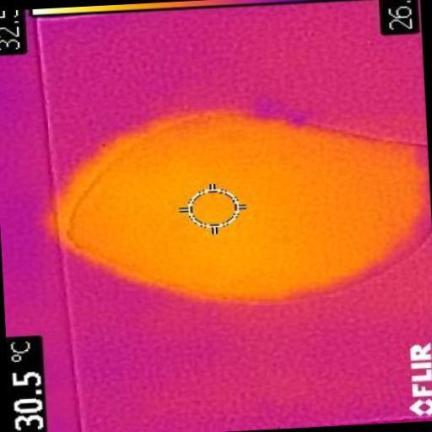mango: (60, 113, 430, 301)
